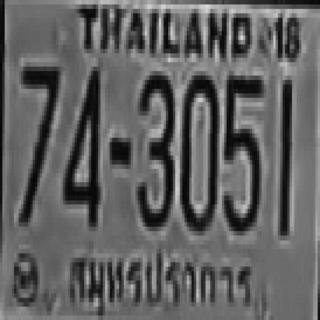N00: (180, 71, 217, 227)
N01: (278, 78, 290, 233)
N03: (136, 71, 173, 227)
N04: (61, 64, 98, 224)
N05: (222, 71, 262, 231)
N07: (19, 62, 58, 222)
P57: (62, 241, 260, 319)
